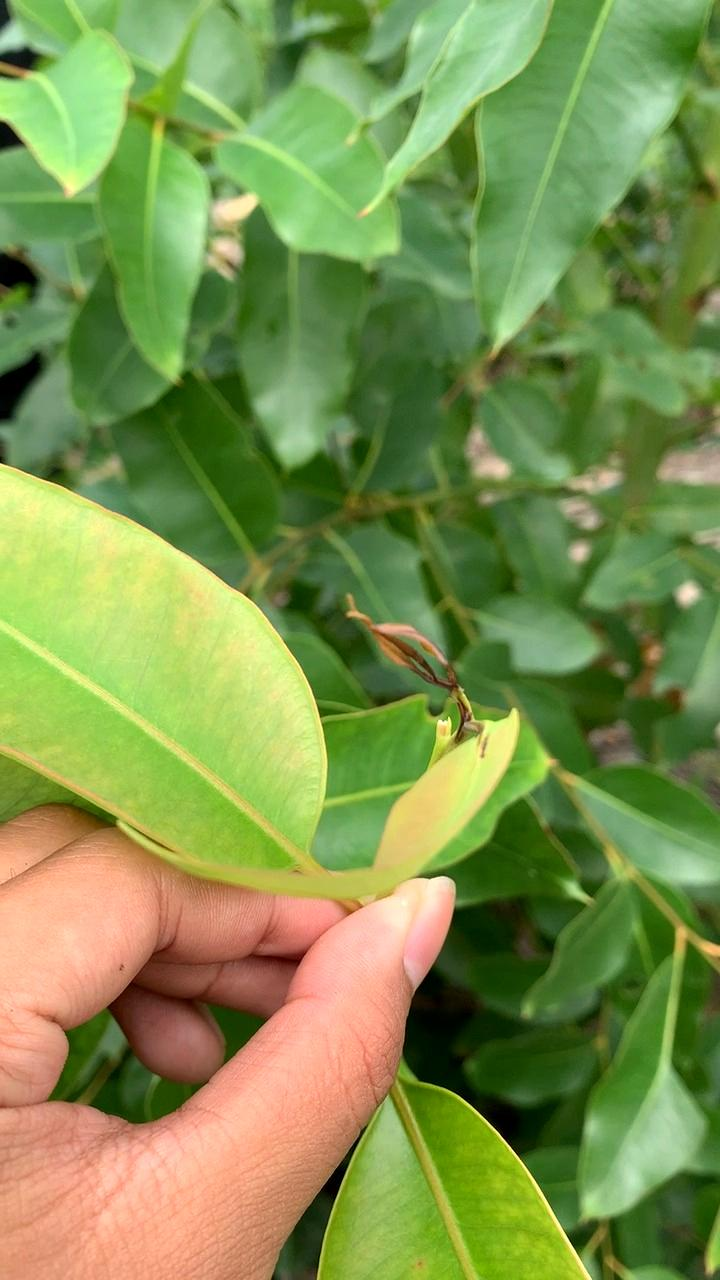Helopeltis-Withered Sprout: (323, 558, 523, 781)
